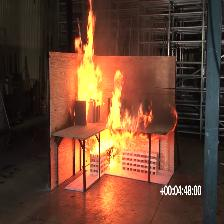fire: (76, 5, 103, 108), (108, 70, 123, 131), (100, 131, 135, 152)
